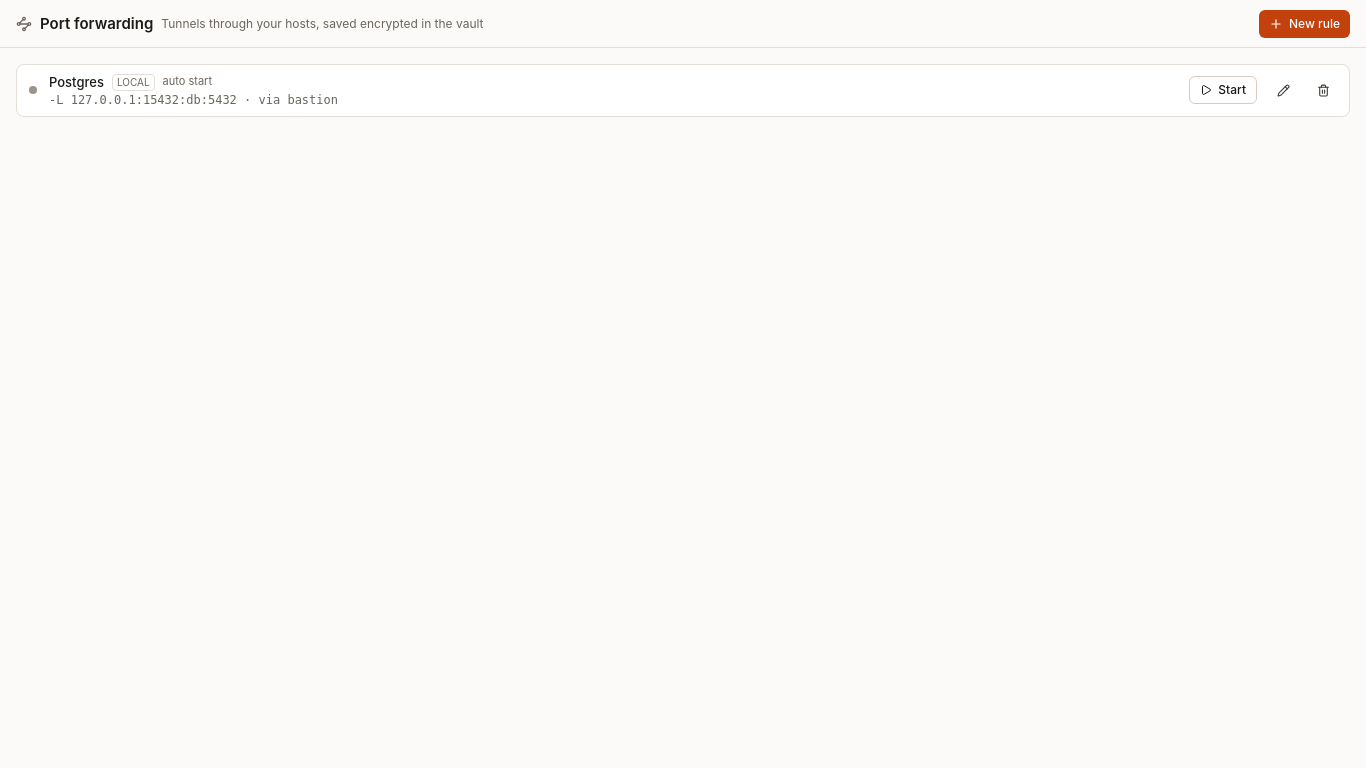
Scenario: ForwardsView › asks for a password, then retries with it
Click the button with aria-label "Start Postgres": [1223, 90] box [1189,76,1257,104]
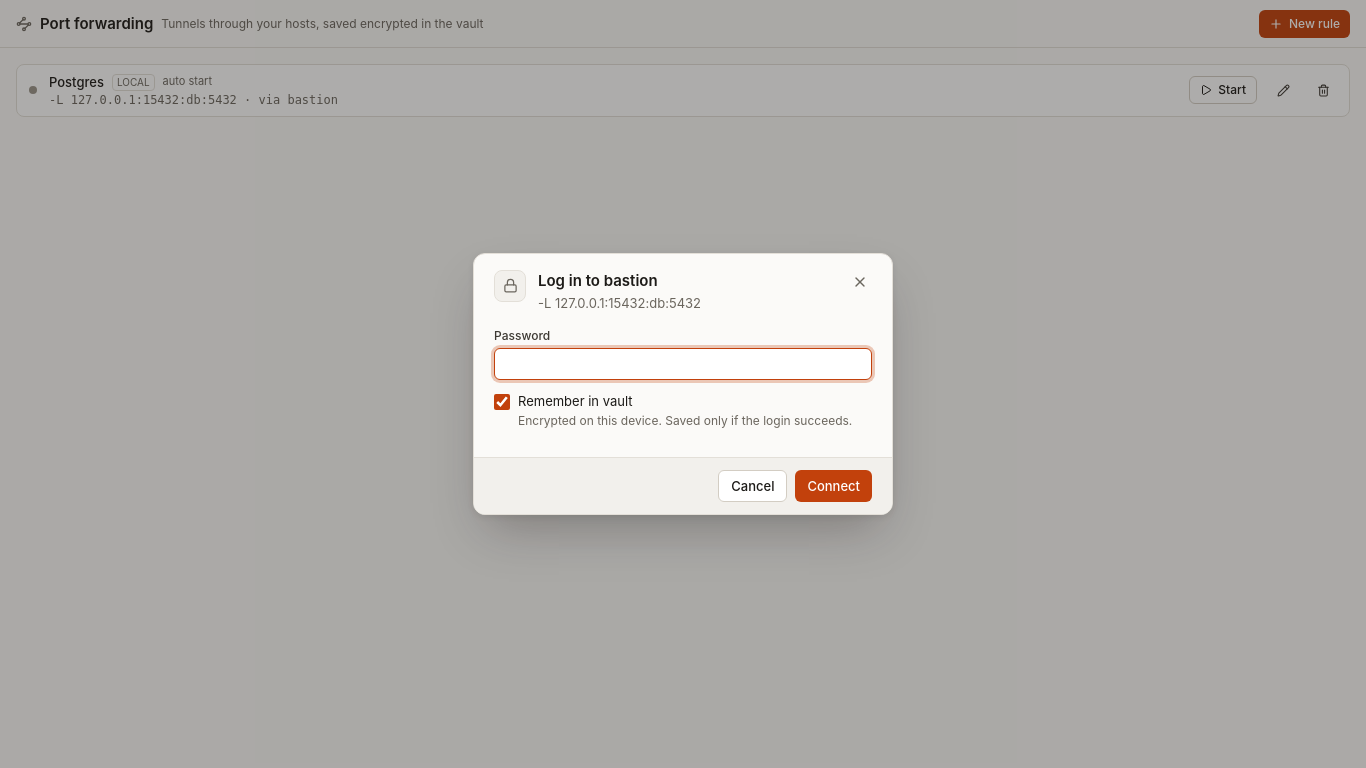
In the password field labelled "Password": [683, 364] box [494,348,872,380], type "pw"
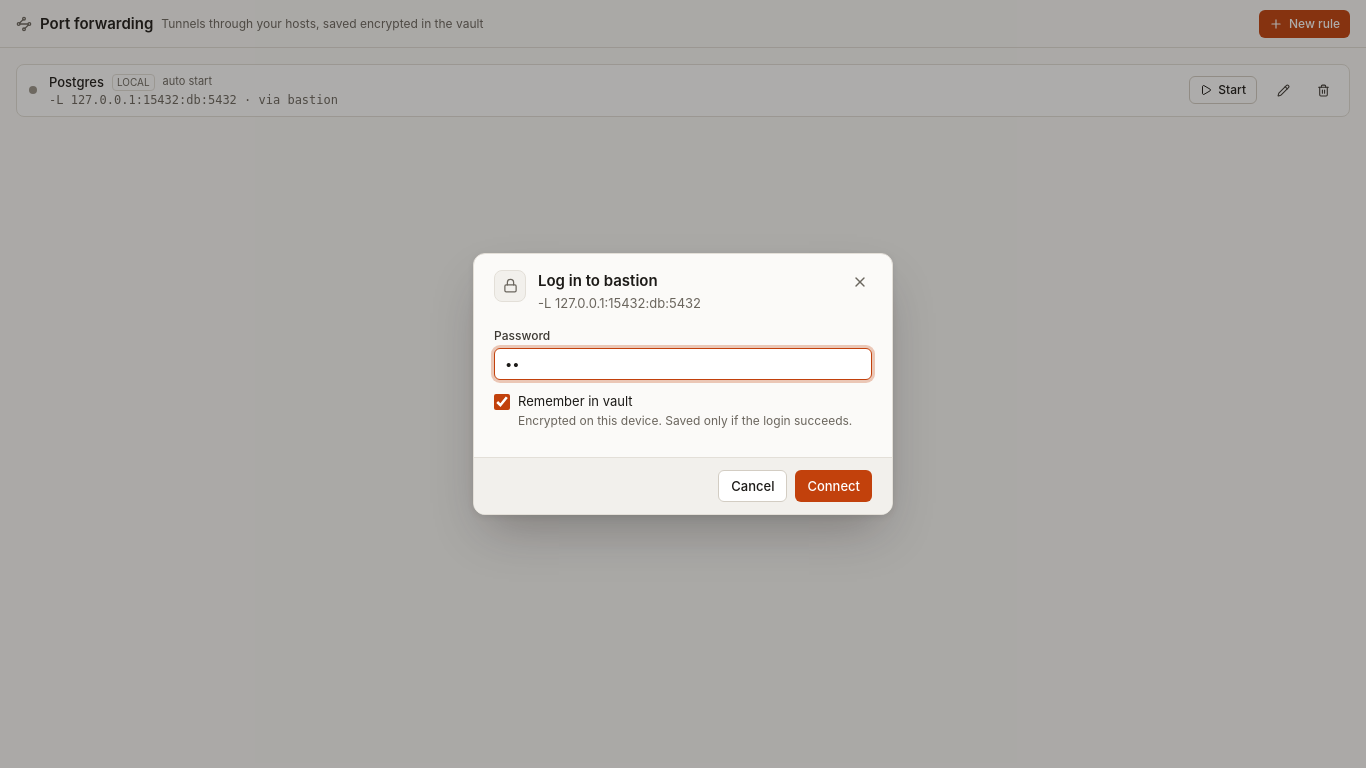
Click the button "Connect": [834, 486] box [795,470,872,502]
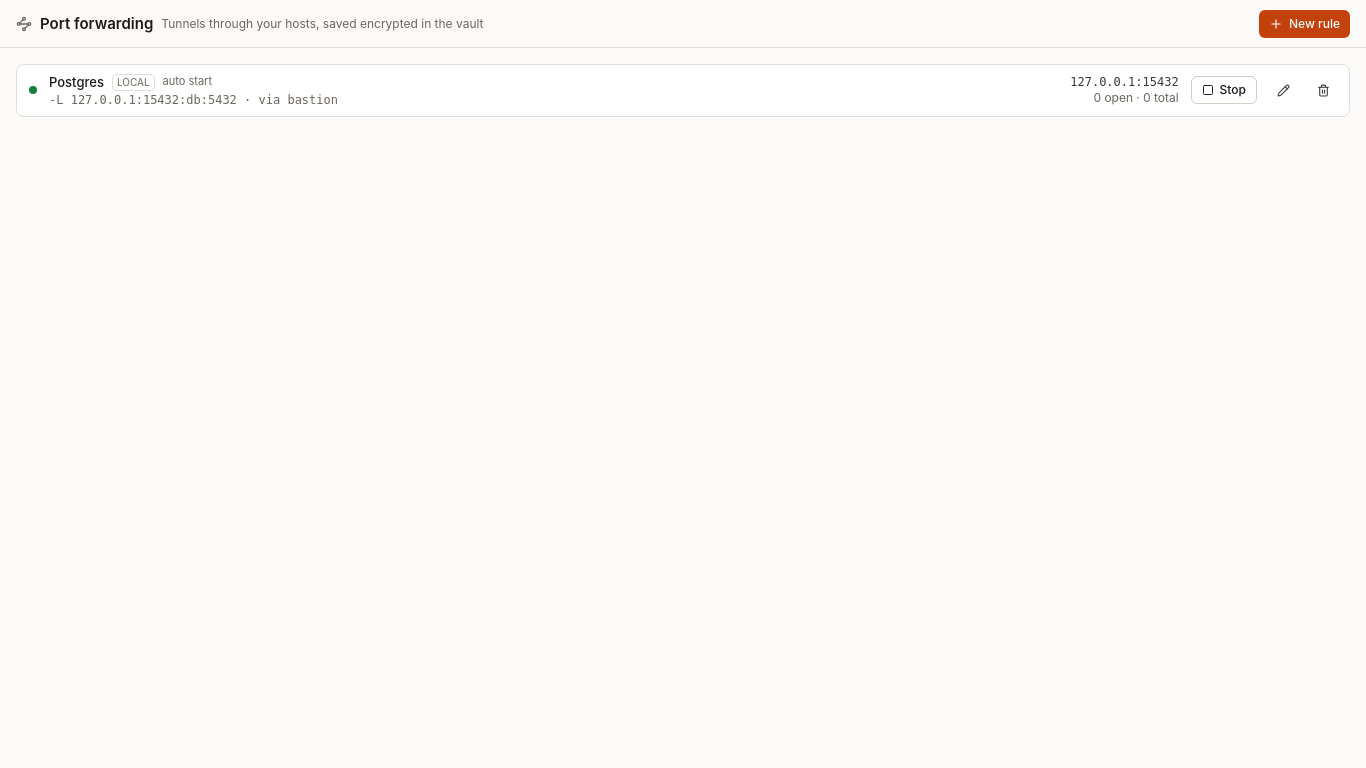
Expected: the element named "Status: running" is shown, [29,86,37,94]
